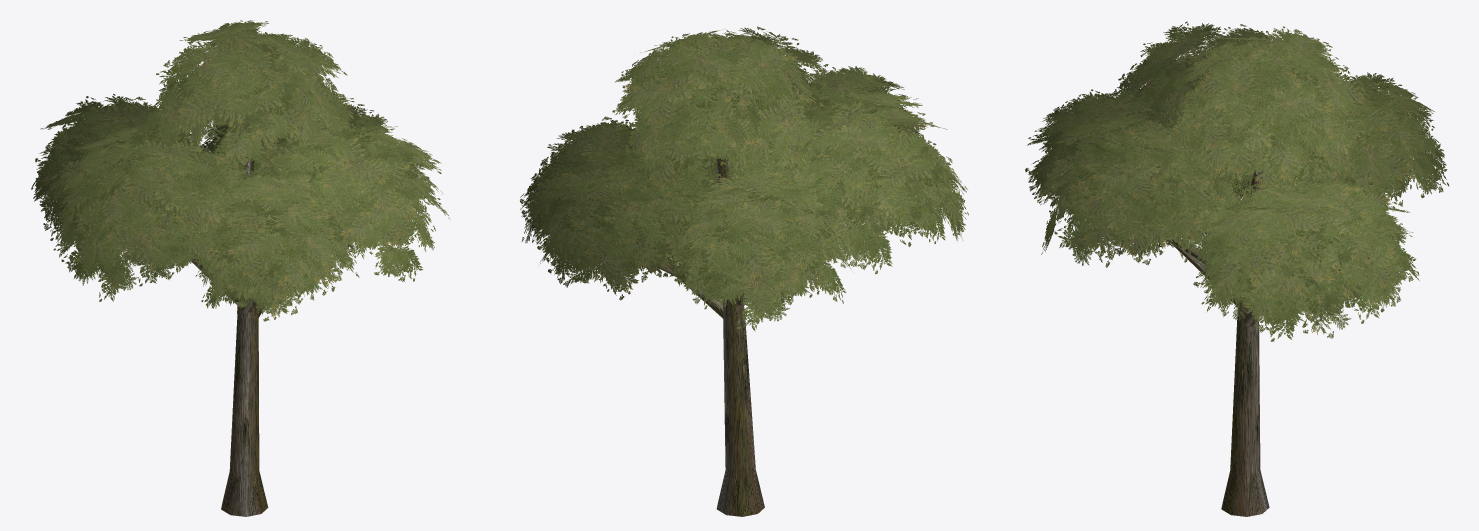
Rendered from tree_broadleaf_b.glb.
3 renders of one model, left to right at view 1: azimuth 30°, elevation 25°; view 2: azimuth 150°, elevation 25°; view 3: azimuth 270°, elevation 25°, orthographic. The views are drawn at different scales.
Parts seen in each view (by area): view 1: tree_broadleaf_b; view 2: tree_broadleaf_b; view 3: tree_broadleaf_b.
Boxes of the visible parts, bbox=[...] form: tree_broadleaf_b: bbox=[31, 20, 449, 516]; tree_broadleaf_b: bbox=[520, 26, 968, 516]; tree_broadleaf_b: bbox=[1025, 21, 1449, 516].
Bounding box in the file's own units: 8.01 × 8.99 × 7.67.
1 material, 1 textured.
